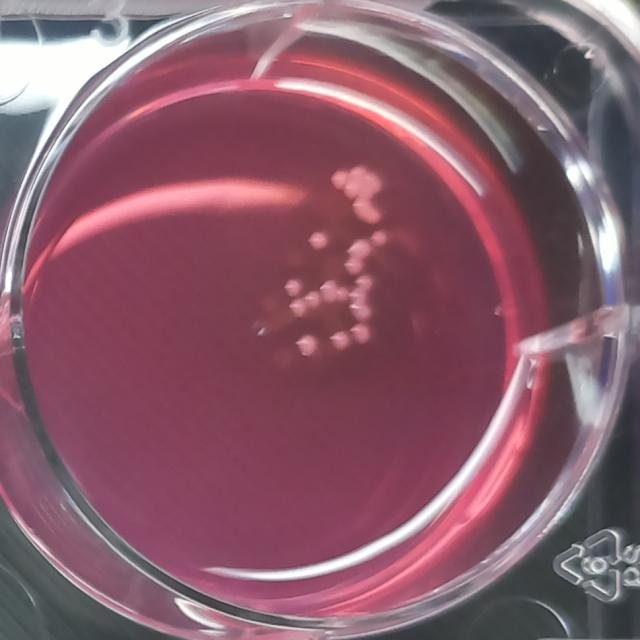Bacillus: (341, 232, 372, 276), (290, 330, 320, 362), (351, 198, 383, 223), (307, 228, 331, 257), (348, 321, 373, 348), (366, 224, 389, 249), (282, 274, 304, 300), (348, 301, 374, 323), (330, 329, 352, 354), (317, 279, 338, 305), (362, 172, 382, 198), (328, 168, 349, 192), (353, 274, 377, 294), (288, 298, 308, 321), (301, 290, 322, 311), (343, 178, 361, 199), (334, 284, 351, 306)
